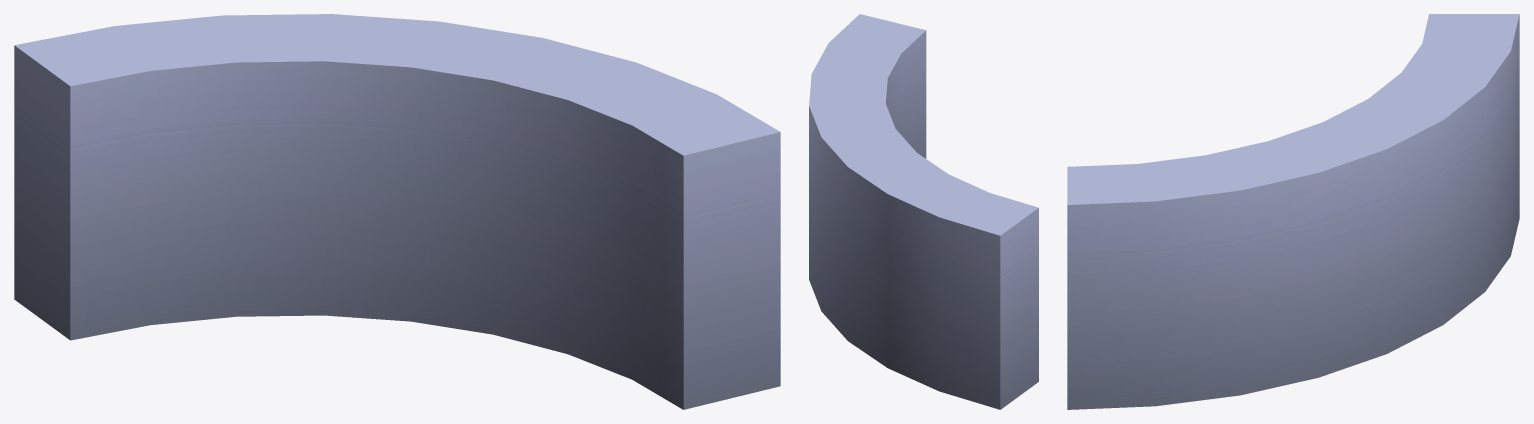
File: wall-round-low.glb
3 views of the same model, side by side, from view 1: azimuth 30°, elevation 25°; view 2: azimuth 150°, elevation 25°; view 3: azimuth 270°, elevation 25° (orthographic). The views are drawn at different scales.
Visible parts, largest first — view 1: wall-round-low; view 2: wall-round-low; view 3: wall-round-low.
Part boxes in pixels (box(x1,y1,x2,y2)): wall-round-low: box(14, 14, 780, 409); wall-round-low: box(809, 14, 1038, 409); wall-round-low: box(1067, 14, 1519, 409).
Bounding box in the file's own units: 1 × 0.5 × 1.
1 material, 1 textured.
